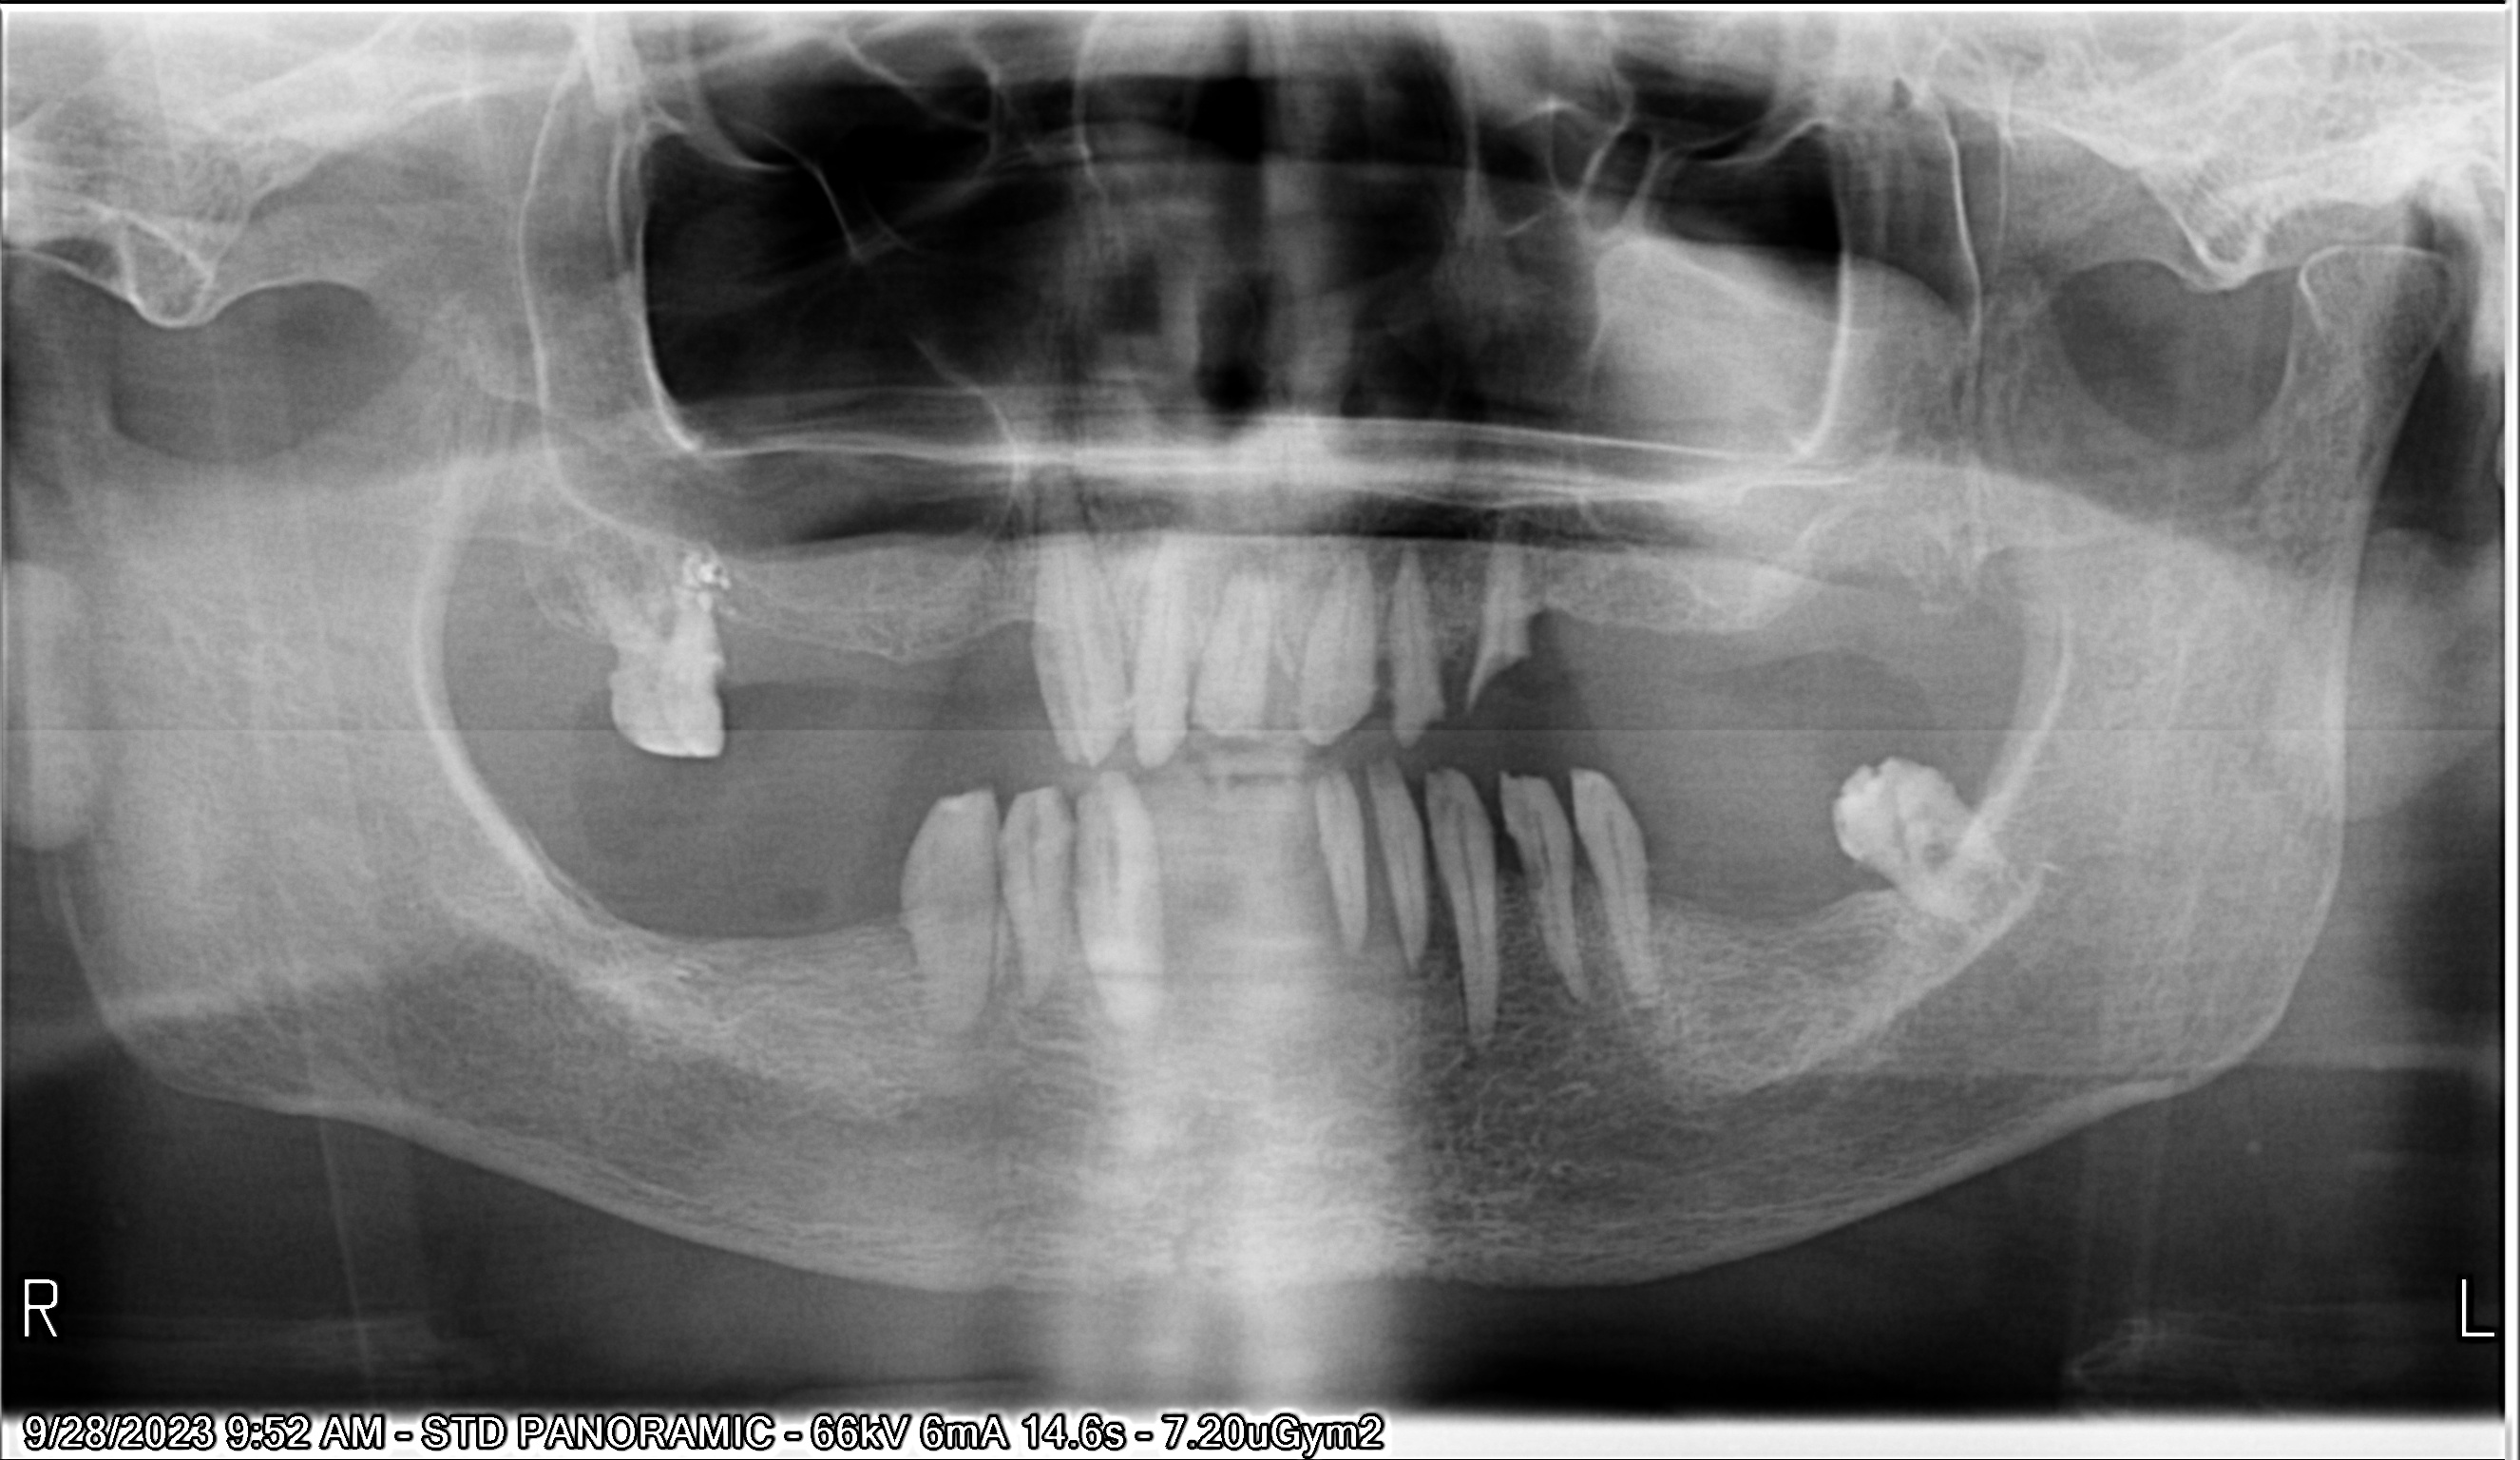CAR: (1848, 744, 1942, 819), (1462, 640, 1525, 721), (681, 650, 729, 725)
FUR: (1903, 822, 1983, 885)
